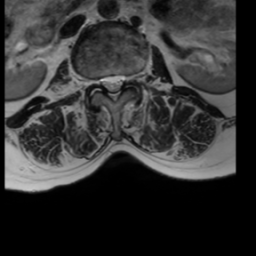CCS_normal: (110, 67, 118, 108)
LFS_normal: (126, 66, 135, 92)
LLS_normal: (118, 67, 126, 93)
RFS_normal: (92, 68, 101, 93)
RLS_normal: (101, 68, 110, 94)
